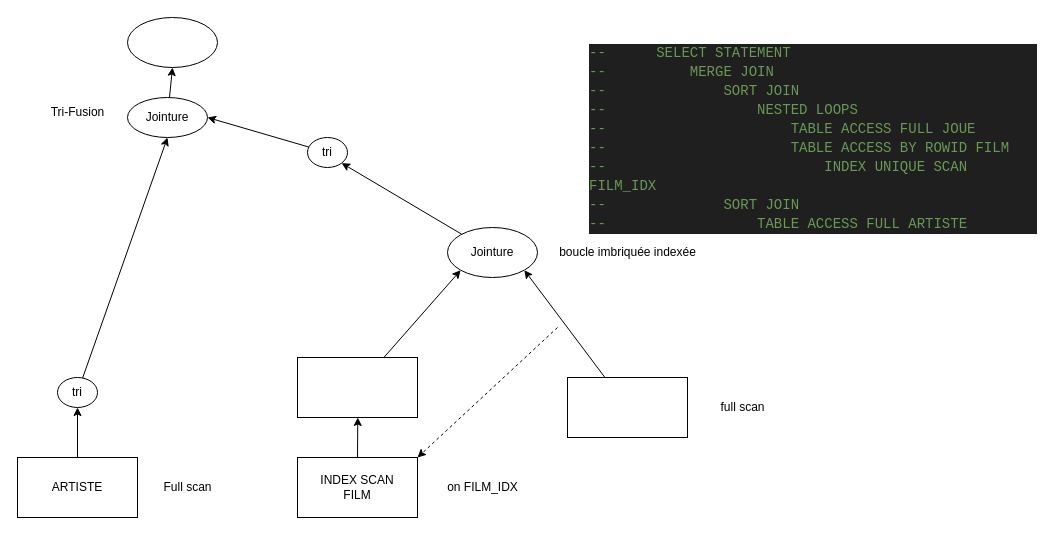
Some shapes in this 1055 by 535 pixel diagram are drawn without their labels. The shapes that lost their labels are listed below. From the top down, each one's centre as x and y in pixels, then its label:
At point 172,42: "Projection statement".
At point 357,387: "FILM".
At point 627,407: "JOUE".
